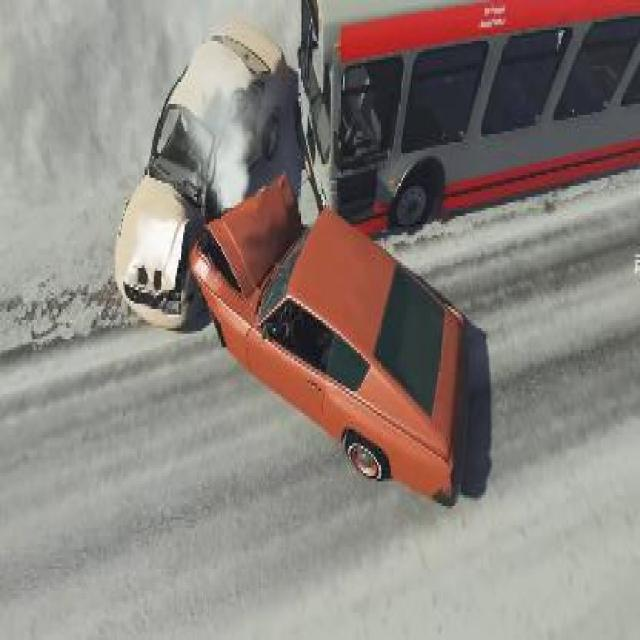accident: (103, 0, 639, 509), (111, 0, 474, 509)
